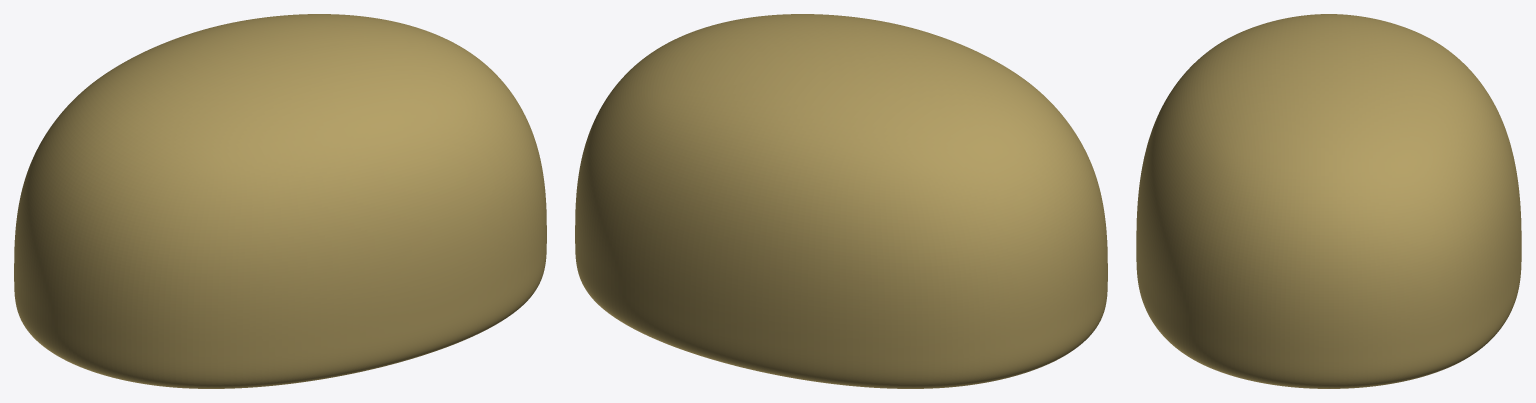
The model's file is ExportedBlenderFBXFile.fbx.
The picture shows the model from 3 angles, left to right: view 1: azimuth 30°, elevation 25°; view 2: azimuth 150°, elevation 25°; view 3: azimuth 270°, elevation 25°; orthographic projection. The views are drawn at different scales.
Parts seen in each view (by area): view 1: Cube; view 2: Cube; view 3: Cube.
Boxes of the visible parts, bbox=[...] form: Cube: bbox=[14, 14, 546, 388]; Cube: bbox=[575, 14, 1107, 388]; Cube: bbox=[1136, 14, 1521, 388].
Bounding box in the file's own units: 0.0733 × 0.0368 × 0.055.
